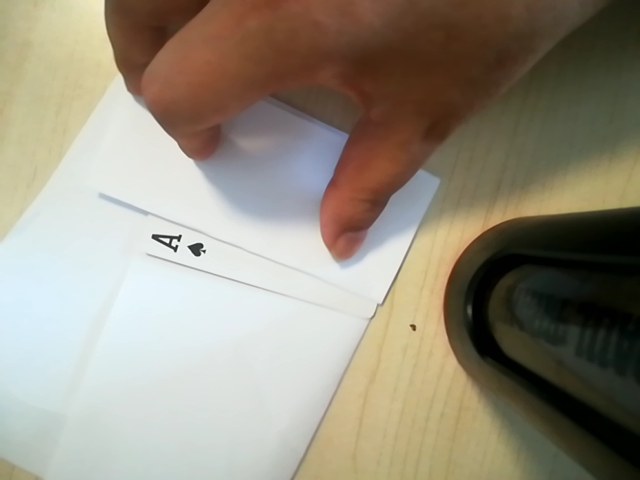ht a: (131, 212, 219, 271)
